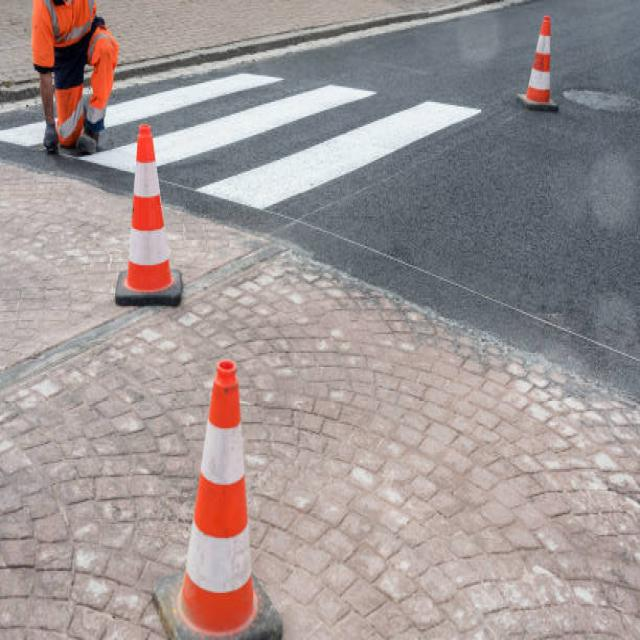Traffic Cone: (148, 340, 290, 640), (102, 84, 198, 342), (511, 5, 566, 126)
